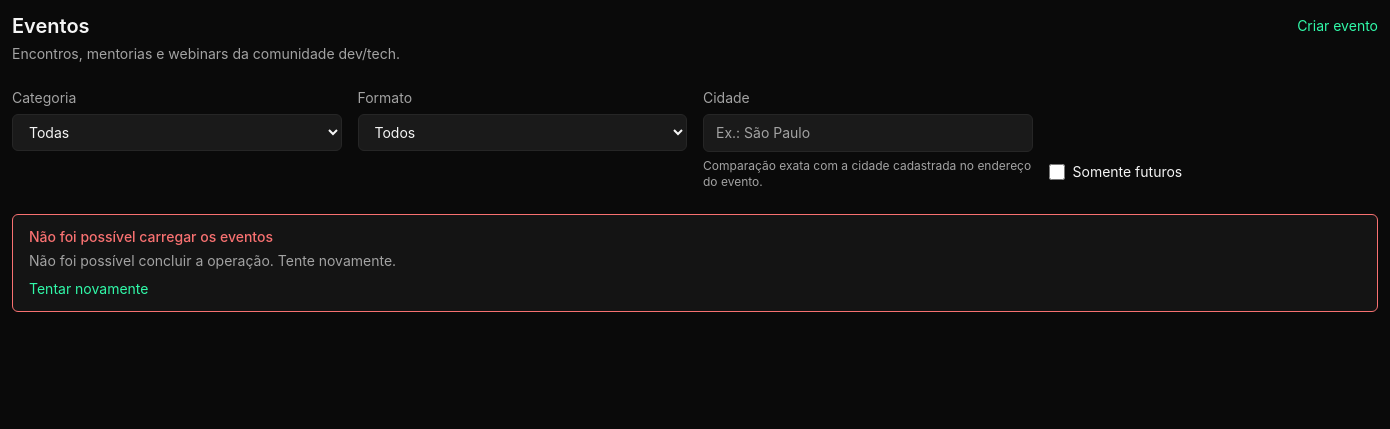
ExploreEventsPage › erro mostra Alert com Tentar novamente
The width and height of the screenshot is (1390, 429).
Expected: the text "Não foi possível carregar os eventos" is shown, [29,228,273,245]
What coordinates should you click on to do the following:
click the button "Tentar novamente"
I would click on:
 (89, 289)
Its box is [29,279,148,299].
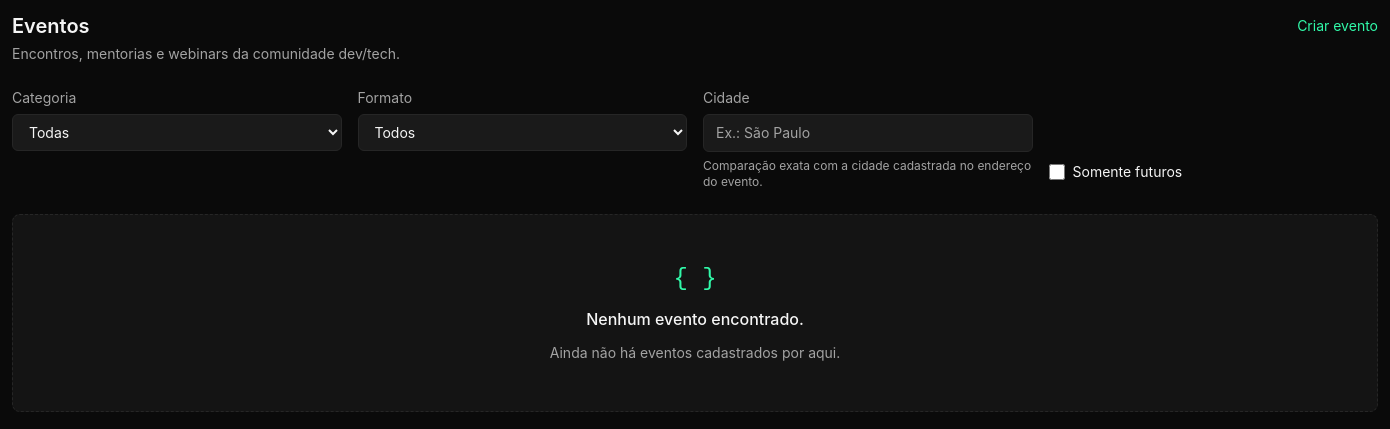
Expected: the text "Nenhum evento encontrado." is shown, [586,307,804,331]
